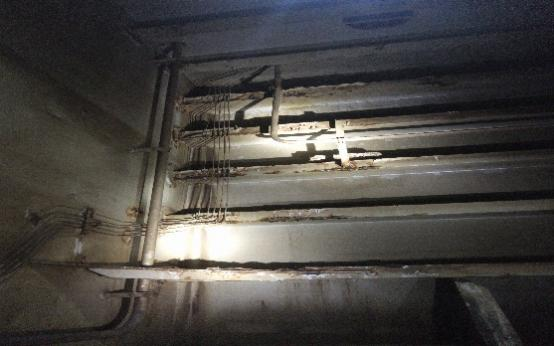corrosion: (293, 162, 387, 178), (256, 211, 347, 227), (293, 265, 391, 279)
